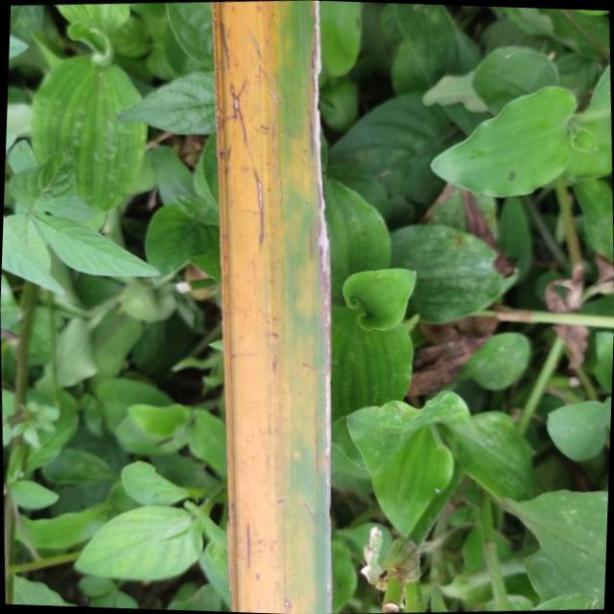Megnesium: (219, 0, 334, 614)
